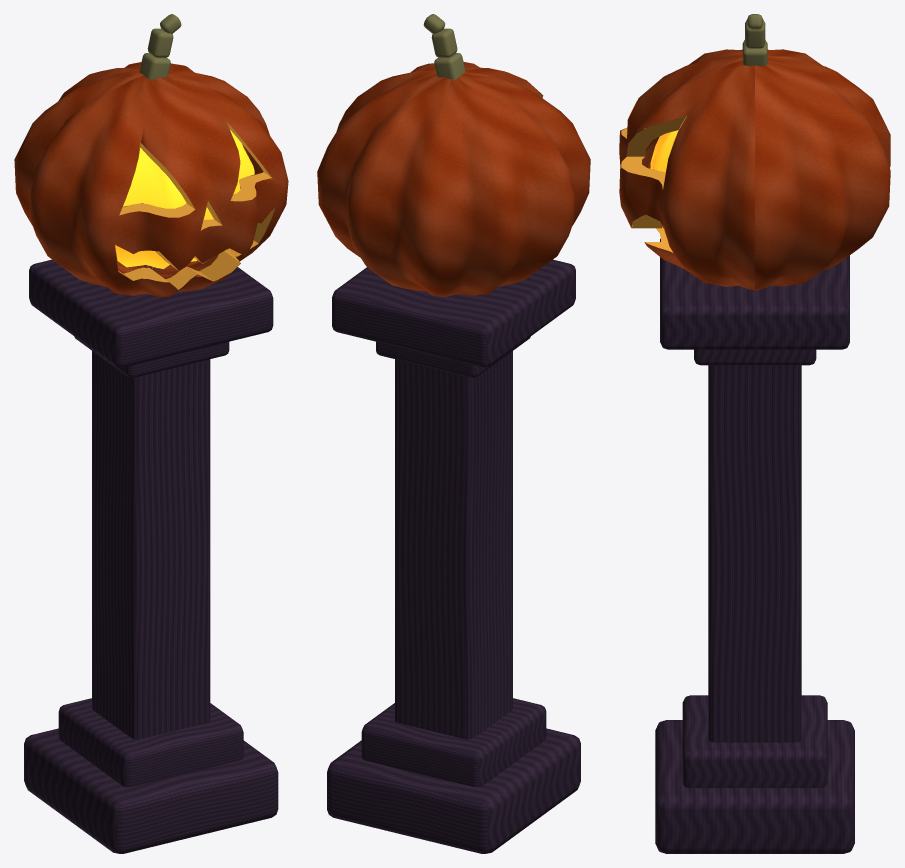
Rendered from post.glb.
The picture shows the model from 3 angles, left to right: view 1: azimuth 30°, elevation 25°; view 2: azimuth 150°, elevation 25°; view 3: azimuth 270°, elevation 25°; orthographic projection. The views are drawn at different scales.
Parts seen in each view (by area): view 1: Lantern; view 2: Lantern; view 3: Lantern.
Part boxes in pixels (x1,y1,x2,y2): Lantern: (14,14,288,853); Lantern: (317,14,590,853); Lantern: (619,14,890,853).
Size of the model in its own units: 0.8876 by 2.78 by 0.8433.
Materials: 5 (2 with a texture image).
